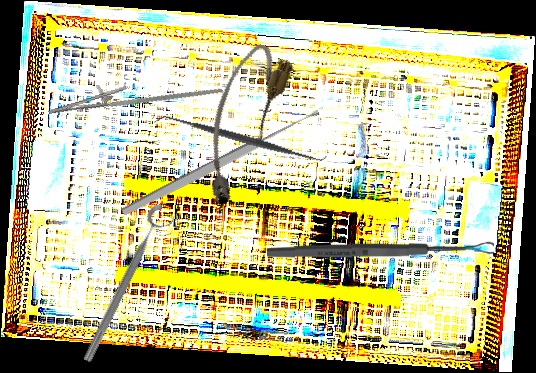Cannula: (184, 37, 297, 211)
Fixation Ring: (77, 201, 180, 369)
Needle Holder: (44, 55, 224, 135)
Spatula Surgical: (153, 105, 329, 172)
Surgical Spoon: (120, 106, 322, 219), (266, 241, 495, 260)
